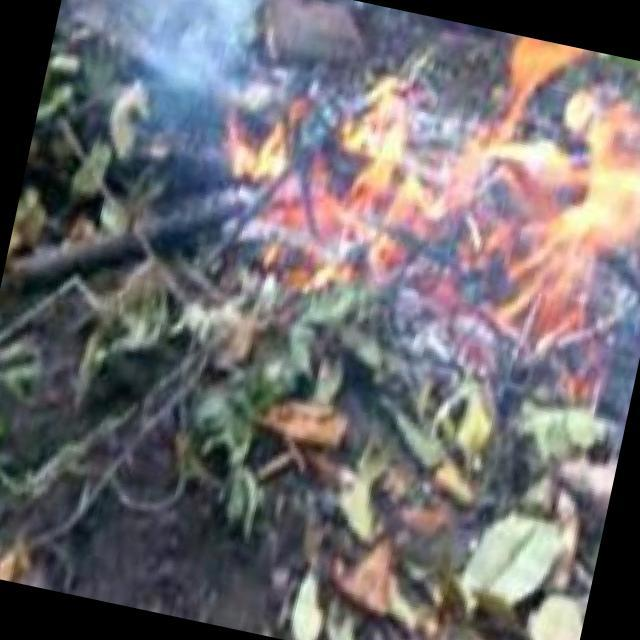Fire: (258, 1, 640, 353)
